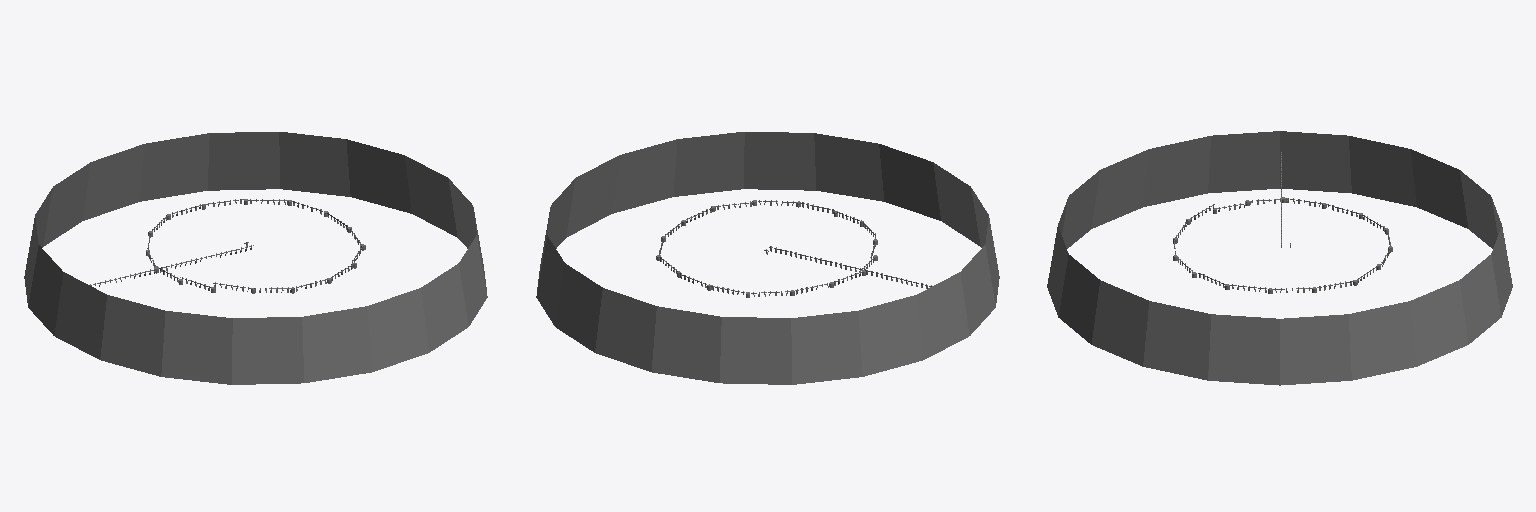
File: SPAWN.obj
3 renders of one model, left to right at view 1: azimuth 30°, elevation 25°; view 2: azimuth 150°, elevation 25°; view 3: azimuth 270°, elevation 25°, orthographic.
Visible parts, largest first — view 1: polySurface42; view 2: polySurface42; view 3: polySurface42.
Part boxes in pixels (x1,y1,x2,y2): polySurface42: (24, 132, 487, 384); polySurface42: (536, 132, 999, 384); polySurface42: (1047, 131, 1512, 385).
Size of the model in its own units: 2928 by 431 by 2928.